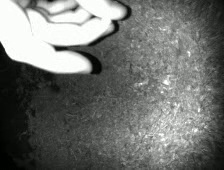corn: (100, 14, 112, 24)
